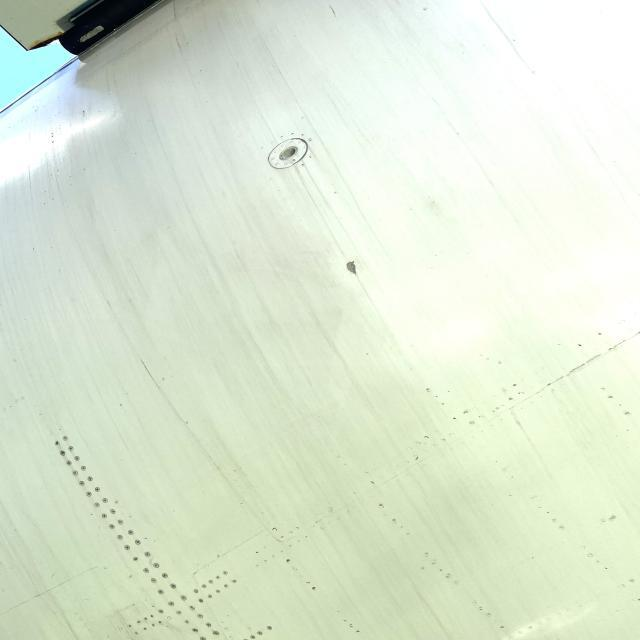crack: (143, 356, 169, 378), (333, 264, 364, 282)
